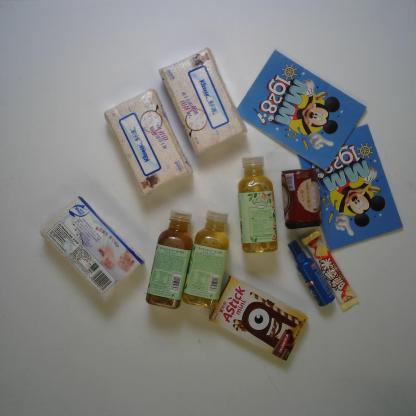Canned Food: (280, 168, 325, 229)
Chocolate: (302, 228, 360, 312)
Dessert: (205, 274, 307, 364)
Drink: (143, 208, 195, 310), (182, 210, 236, 308), (236, 157, 282, 253)
Personal Hygiene: (288, 240, 334, 306)
Stationery: (238, 50, 368, 172), (296, 124, 402, 250)
Tissue: (40, 196, 144, 302), (158, 45, 248, 157), (103, 88, 192, 198)
